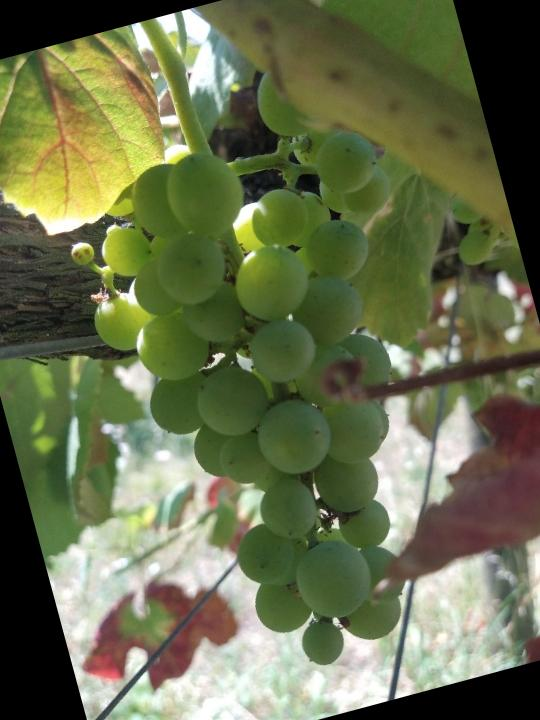grape: (36, 50, 507, 707)
